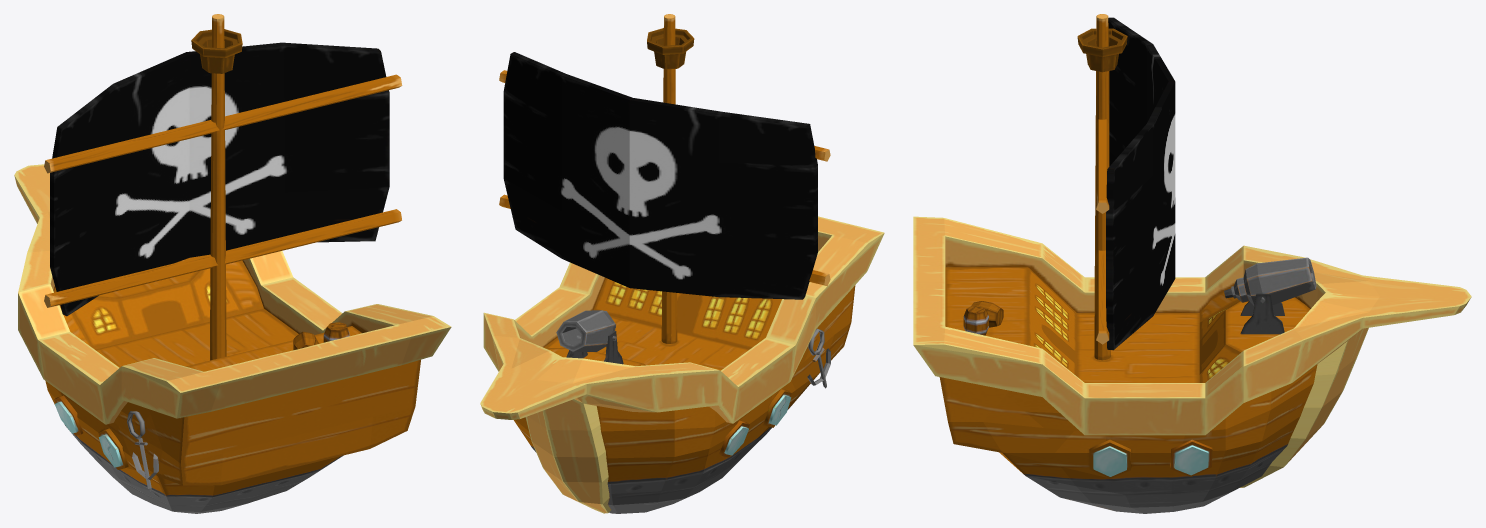
Rendered from pirate_ship.glb.
The picture shows the model from 3 angles, left to right: view 1: azimuth 30°, elevation 25°; view 2: azimuth 150°, elevation 25°; view 3: azimuth 270°, elevation 25°; orthographic projection. The views are drawn at different scales.
Parts seen in each view (by area): view 1: Plane003, Box001, Box002, Cylinder003, Cylinder004, Cylinder001, Cylinder002; view 2: Plane003, Box002, Box001, Box003, Cylinder015, Cylinder001, Cylinder002; view 3: Box001, Box002, Plane003, Box003, Cylinder015, Cylinder001, Cylinder002, Cylinder003, Plane005, Cylinder004, Cylinder020, Cylinder021 (+1 smaller).
Part boxes in pixels (bbox=[...]): Plane003: bbox=[50, 42, 389, 316]; Box001: bbox=[45, 255, 420, 513]; Box002: bbox=[14, 164, 451, 424]; Cylinder003: bbox=[44, 74, 402, 173]; Cylinder004: bbox=[44, 209, 401, 307]; Cylinder001: bbox=[210, 14, 226, 360]; Cylinder002: bbox=[191, 29, 242, 73]; Plane003: bbox=[503, 52, 817, 299]; Box002: bbox=[480, 216, 884, 423]; Box001: bbox=[514, 278, 855, 513]; Box003: bbox=[525, 399, 610, 513]; Cylinder015: bbox=[556, 310, 615, 351]; Cylinder001: bbox=[661, 14, 677, 343]; Cylinder002: bbox=[647, 28, 694, 69]; Box001: bbox=[939, 267, 1317, 513]; Box002: bbox=[913, 216, 1471, 435]; Plane003: bbox=[1106, 17, 1175, 350]; Box003: bbox=[1240, 327, 1368, 487]; Cylinder015: bbox=[1224, 257, 1316, 305]; Cylinder001: bbox=[1094, 14, 1110, 360]; Cylinder002: bbox=[1077, 28, 1127, 72]; Cylinder003: bbox=[1096, 71, 1109, 213]; Plane005: bbox=[1240, 293, 1284, 334]; Cylinder004: bbox=[1096, 250, 1109, 344]; Cylinder020: bbox=[1093, 446, 1126, 476]; Cylinder021: bbox=[1174, 445, 1208, 475].
Size of the model in its own units: 0.907 by 1.23 by 1.29.
Materials: 1 (1 with a texture image).
